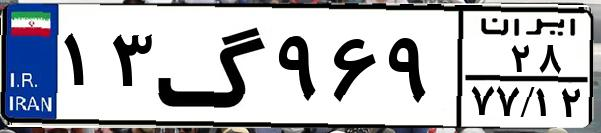1: (57, 26, 110, 100), (535, 70, 560, 125)
2: (560, 70, 590, 125), (508, 27, 537, 80)
3: (110, 28, 156, 98)
6: (330, 28, 385, 110)
7: (470, 70, 495, 125), (495, 70, 520, 125)
8: (537, 27, 568, 80)
9: (270, 28, 330, 110), (385, 28, 445, 110)
گ: (156, 12, 270, 120)
